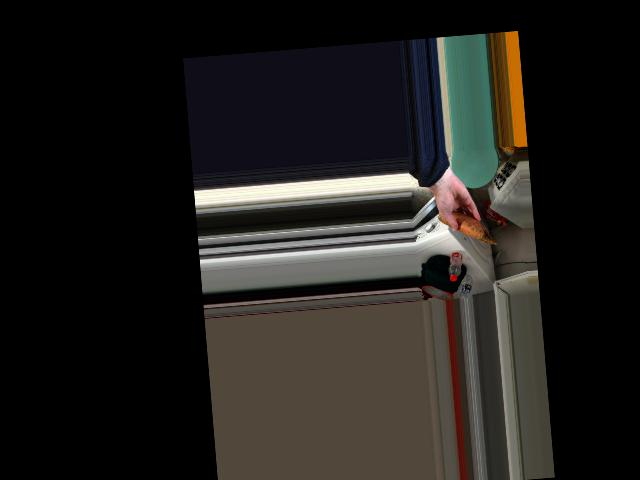sweet_potato: (444, 211, 481, 239)
